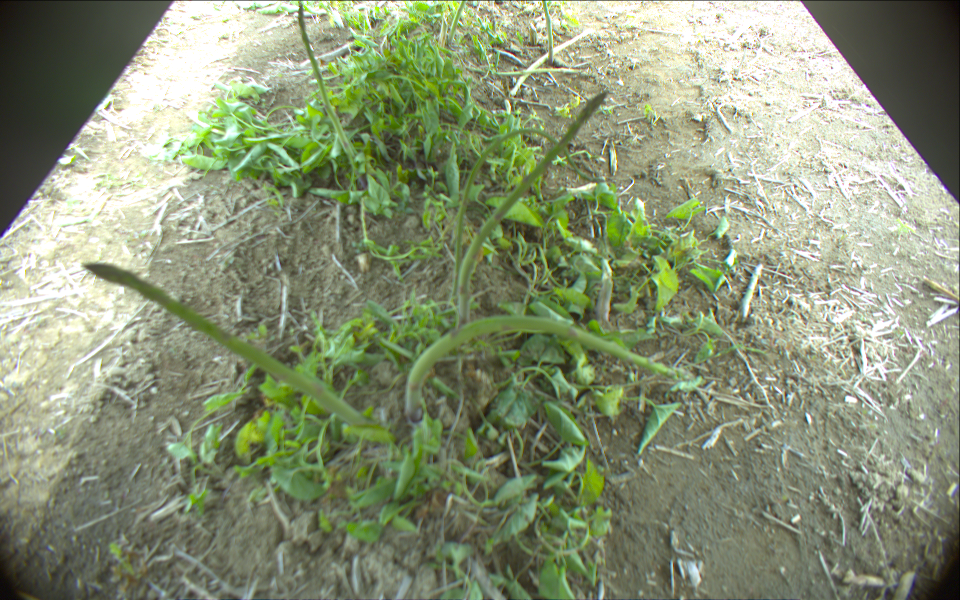aspa: (81, 262, 372, 432), (455, 91, 609, 331), (450, 128, 619, 301), (404, 315, 679, 418), (296, 1, 358, 177), (512, 26, 600, 100), (457, 63, 578, 75), (541, 1, 555, 63), (449, 1, 466, 40), (438, 14, 449, 45)
